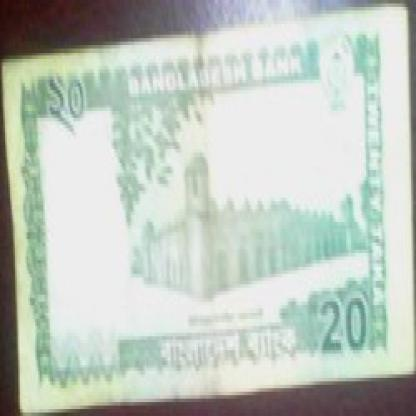Twenty: (25, 69, 100, 139), (306, 295, 381, 364)
